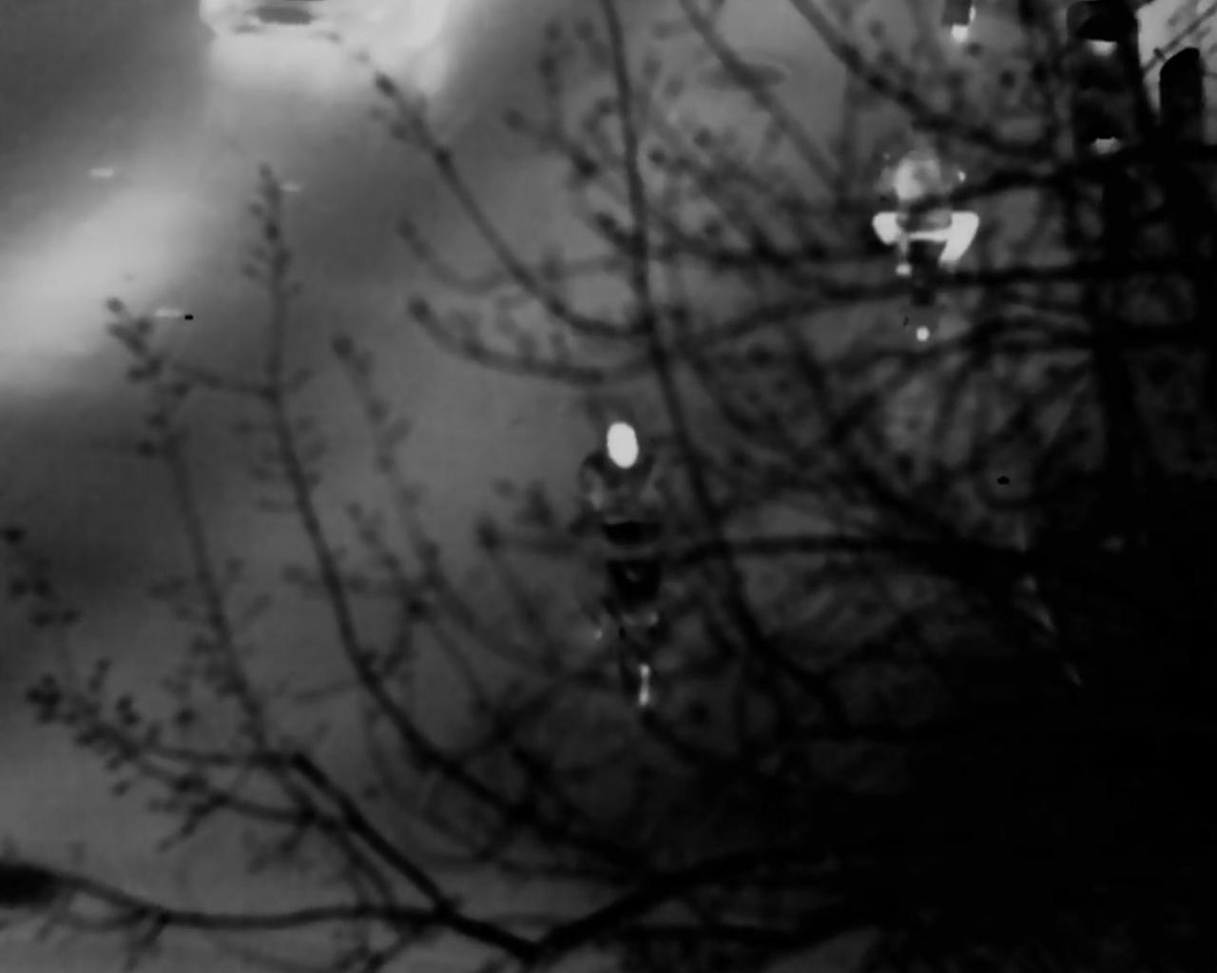person: (565, 422, 678, 627), (876, 114, 984, 296)
